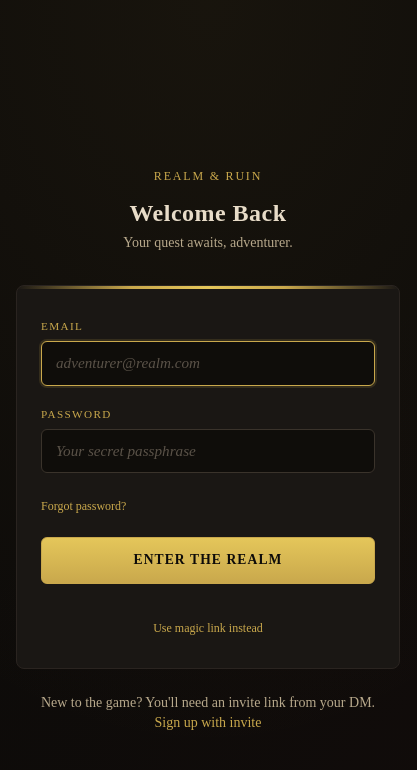
Test: LoginForm › Zod validation › clears previous validation errors on valid re-submit
The width and height of the screenshot is (417, 770).
// First: trigger errors
Step 1. Click the button with test id "submit-button" → (208, 561), box [41,537,375,584]
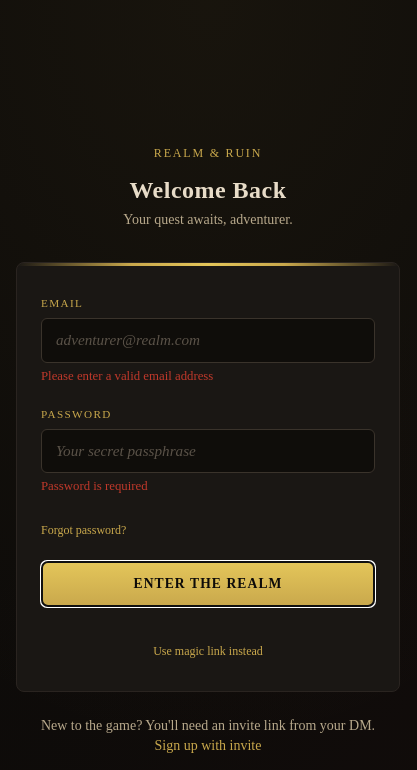
Now the text "Please enter a valid email address" is shown, box [41,369,213,383]
// Fix and re-submit
Step 2. Type "test@example.com" into the field with test id "email-input" → (208, 340), box [41,318,375,363]
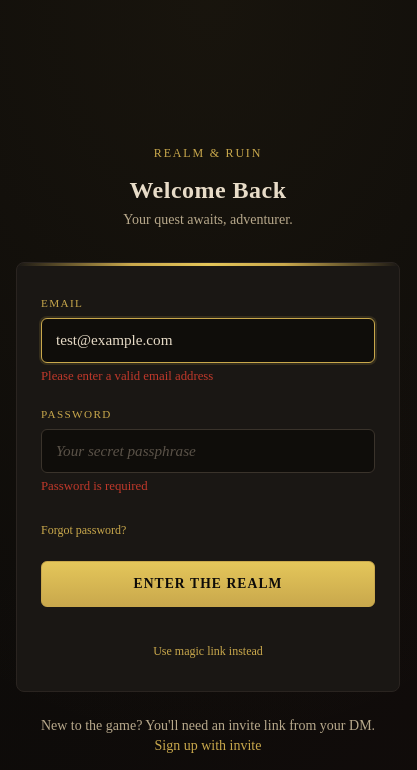
Step 3. Type "password" into the password field with test id "password-input" → (208, 451), box [41,429,375,473]
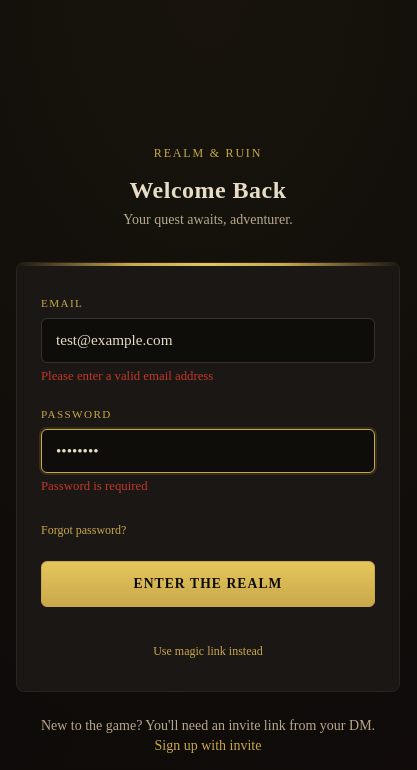
Step 4. Click the button with test id "submit-button" → (208, 584), box [41,561,375,607]
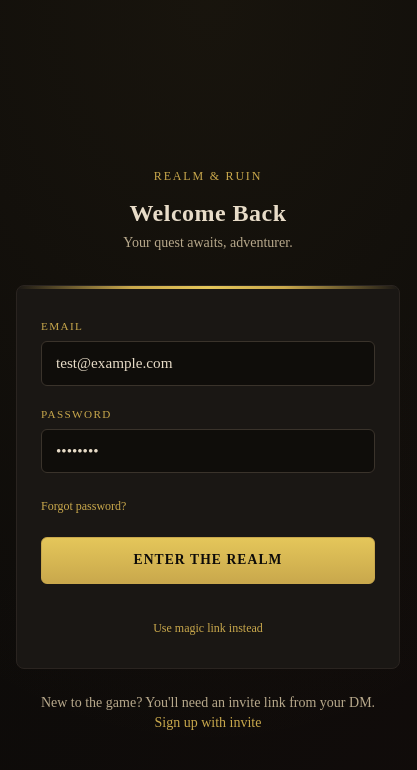
Now the text "Please enter a valid email address" is gone
